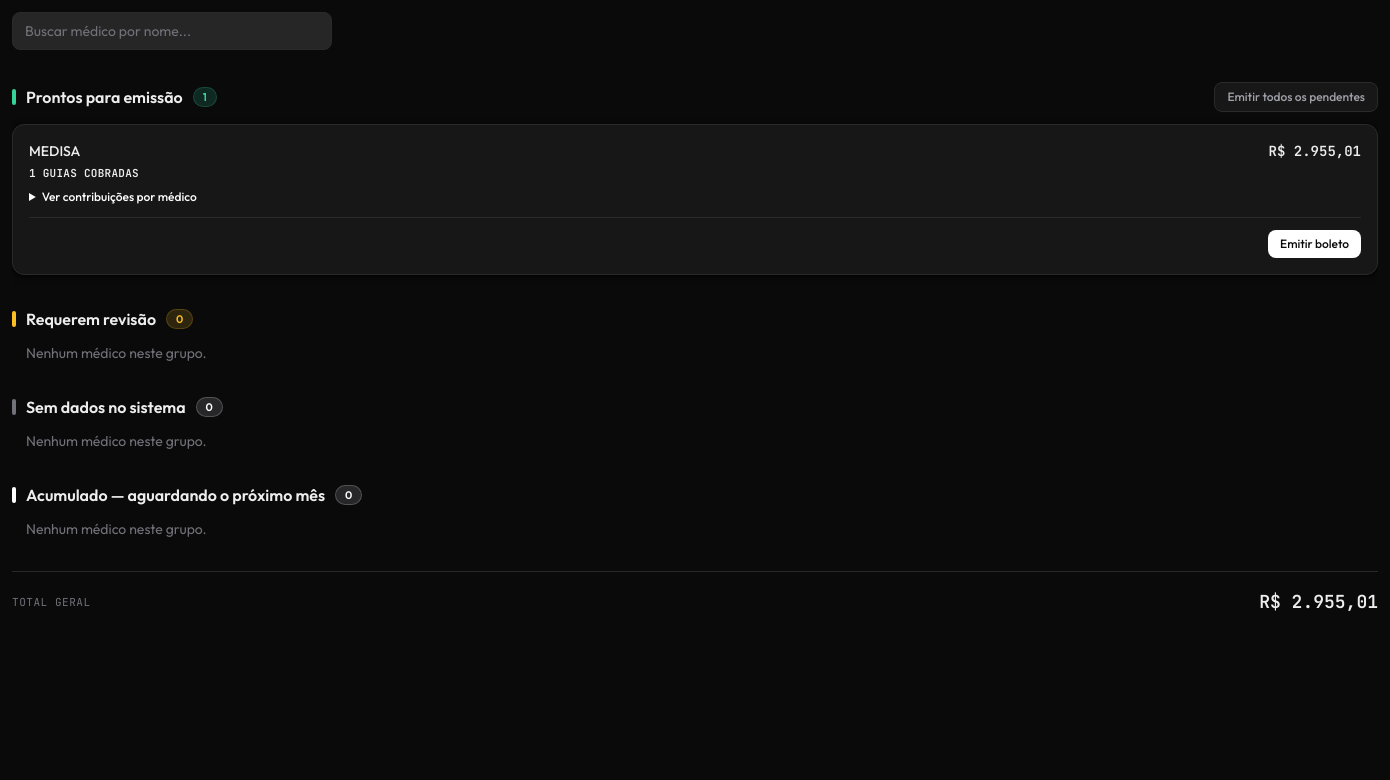
it: RelatorioGrupos — contribuições por médico de resultado agregado (Story 10.4c) › ao abrir, busca e exibe as contribuições com o nome do médico resolvido
Expected: the text "MEDISA" is shown, 29,141 -> 80,161
Click the heading "Ver contribuições por médico" at (119, 196), box 42,189 -> 197,204
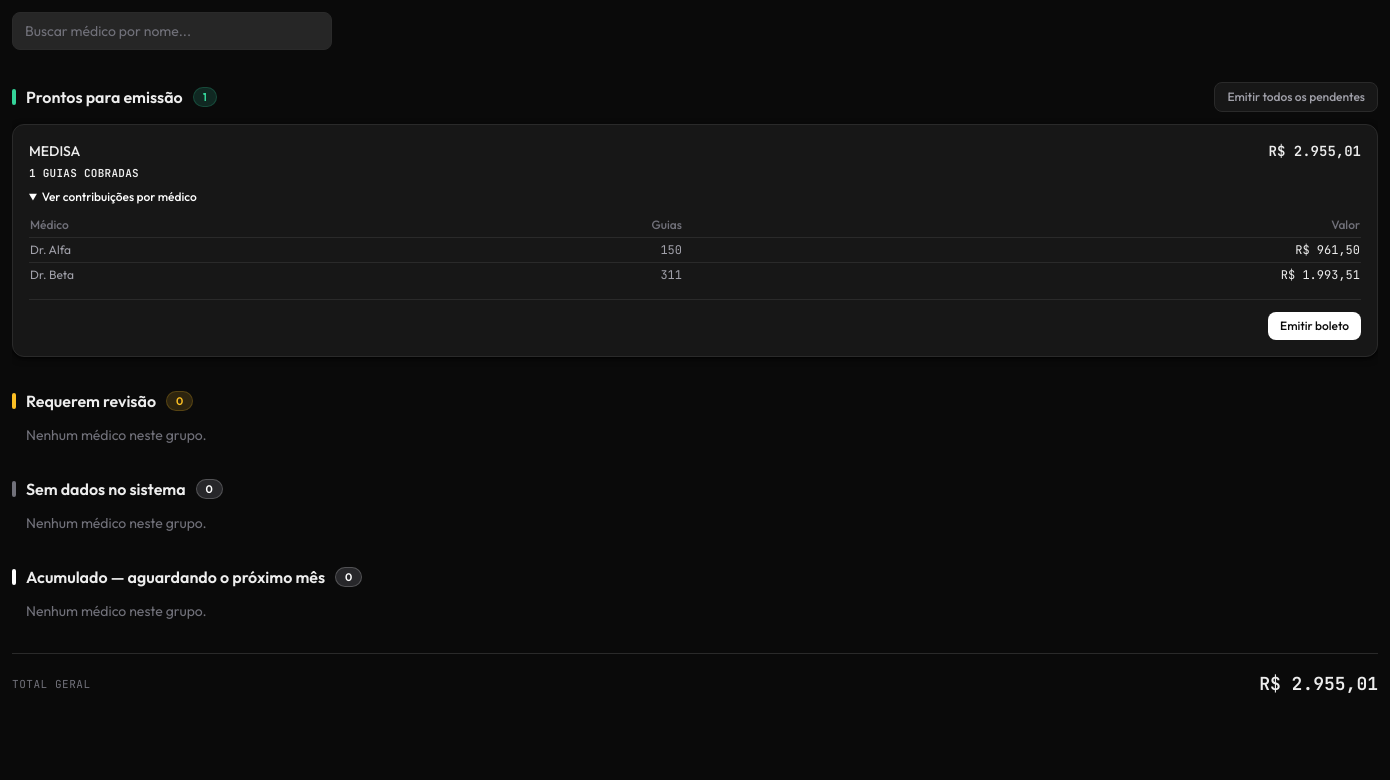
Expected: the text "Dr. Alfa" is shown, 29,238 -> 412,262
Expected: the text "Dr. Beta" is shown, 29,262 -> 412,287
Expected: the text "150" is shown, 412,238 -> 683,262
